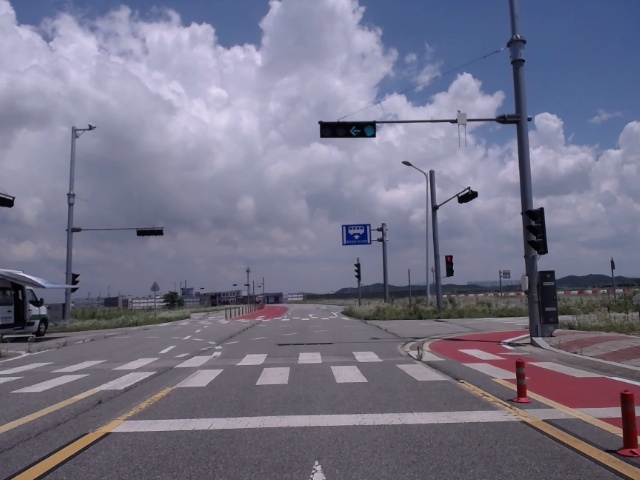all_green_4: (322, 122, 376, 136)
